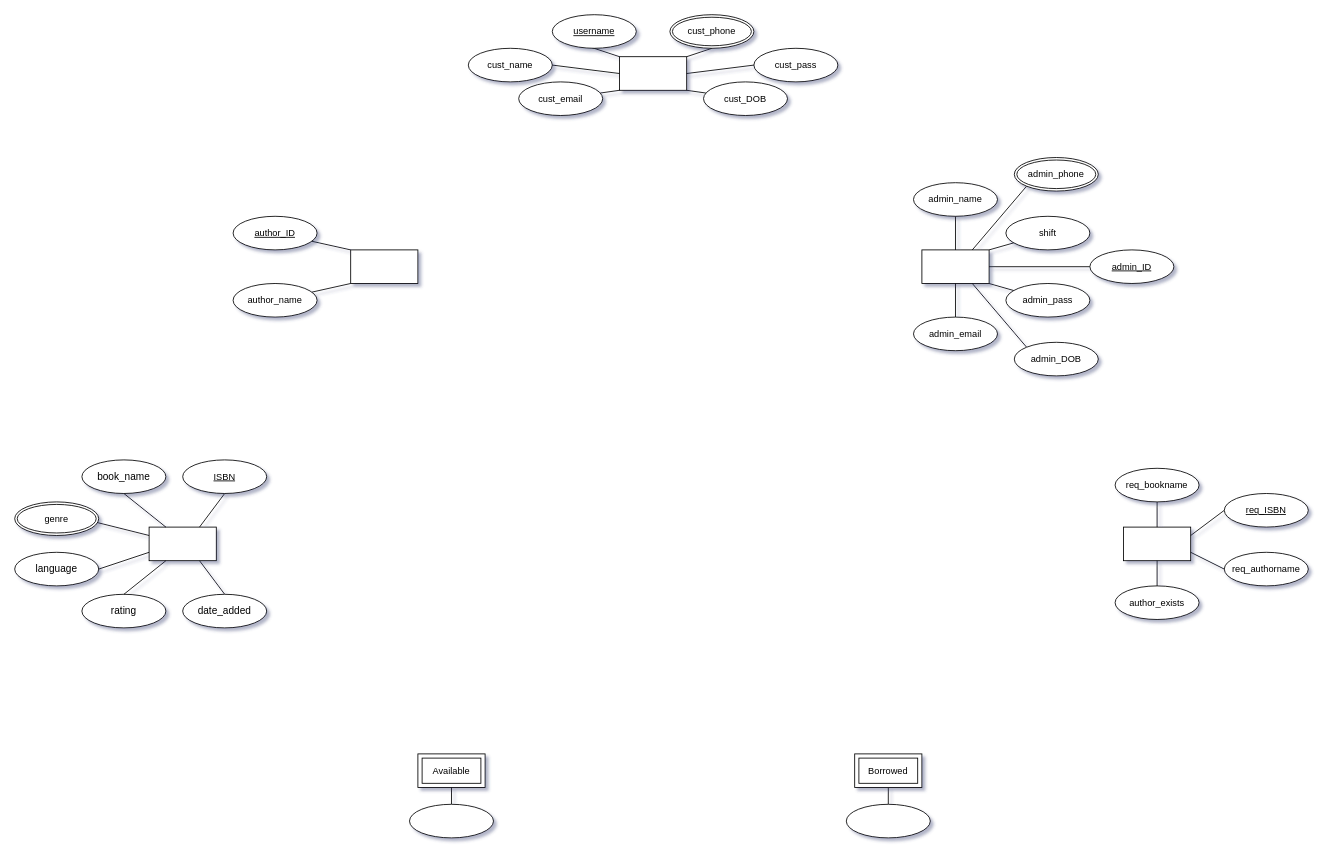
Image size: 1328x858. Some labels were removed from this diagram. Here are the shapes that lost their labels. From the top down, the centre of each, then its label:
At (653,73): "Customers".
At (384,266): "Authors".
At (955,266): "Admin".
At (182,543): "Books".
At (1157,543): "Requested".
At (451,820): "av_copies".
At (887,820): "bor_copies".
